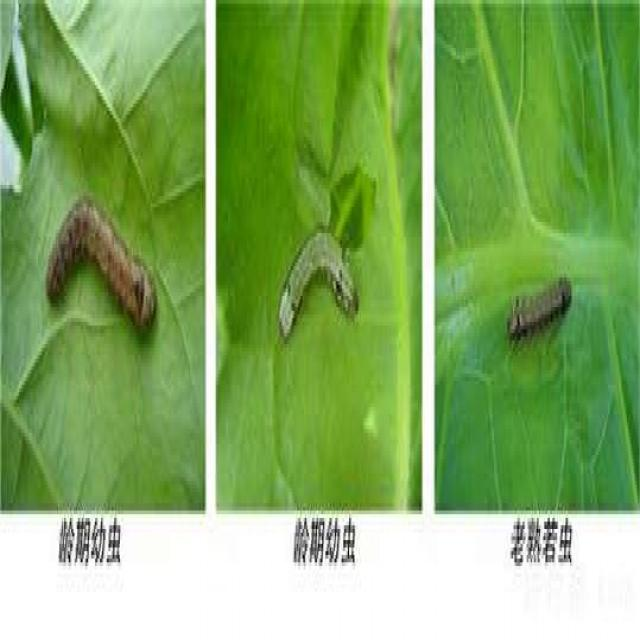armyworm: (47, 196, 165, 361), (283, 191, 363, 334), (506, 265, 577, 359)
